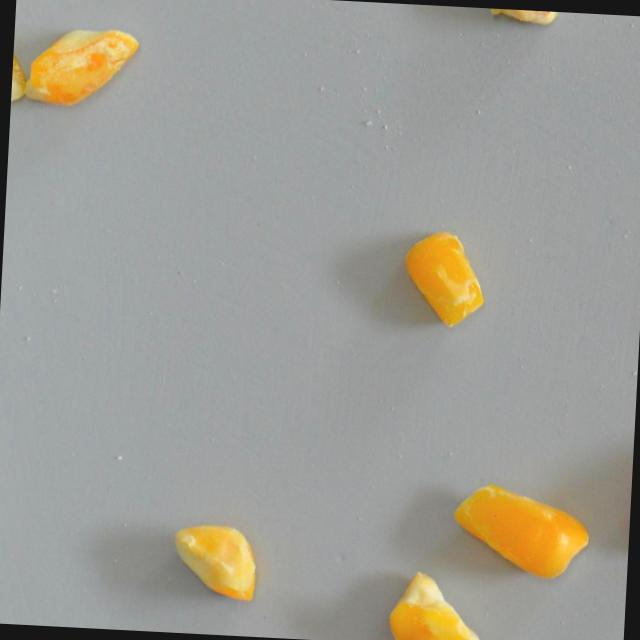dañado: (475, 8, 560, 28)
pelicula: (447, 478, 594, 587), (22, 21, 141, 110), (401, 228, 489, 331), (169, 519, 259, 605), (385, 569, 485, 640), (10, 0, 31, 123)
